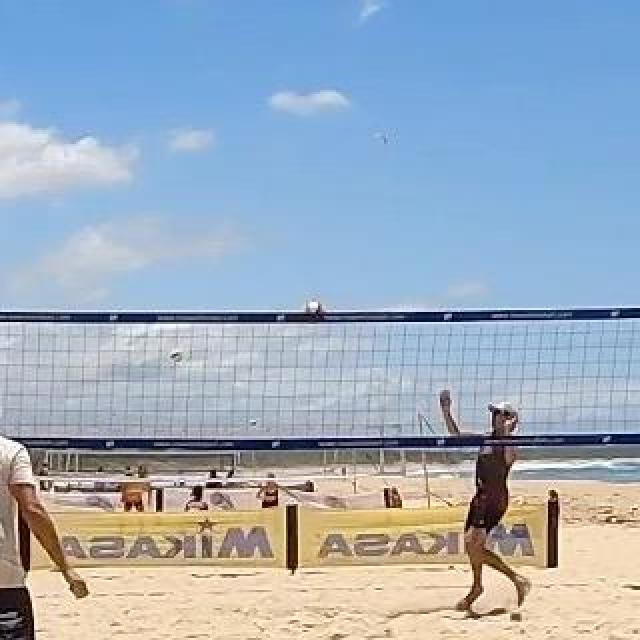volleyball: (304, 299, 328, 323), (170, 351, 182, 363)
